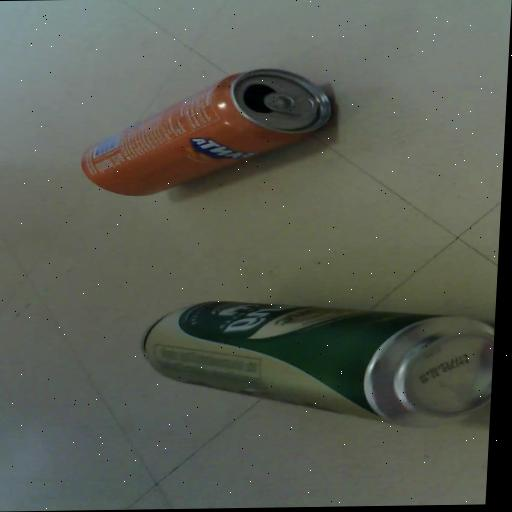canned: (120, 288, 497, 438), (67, 57, 352, 199)
